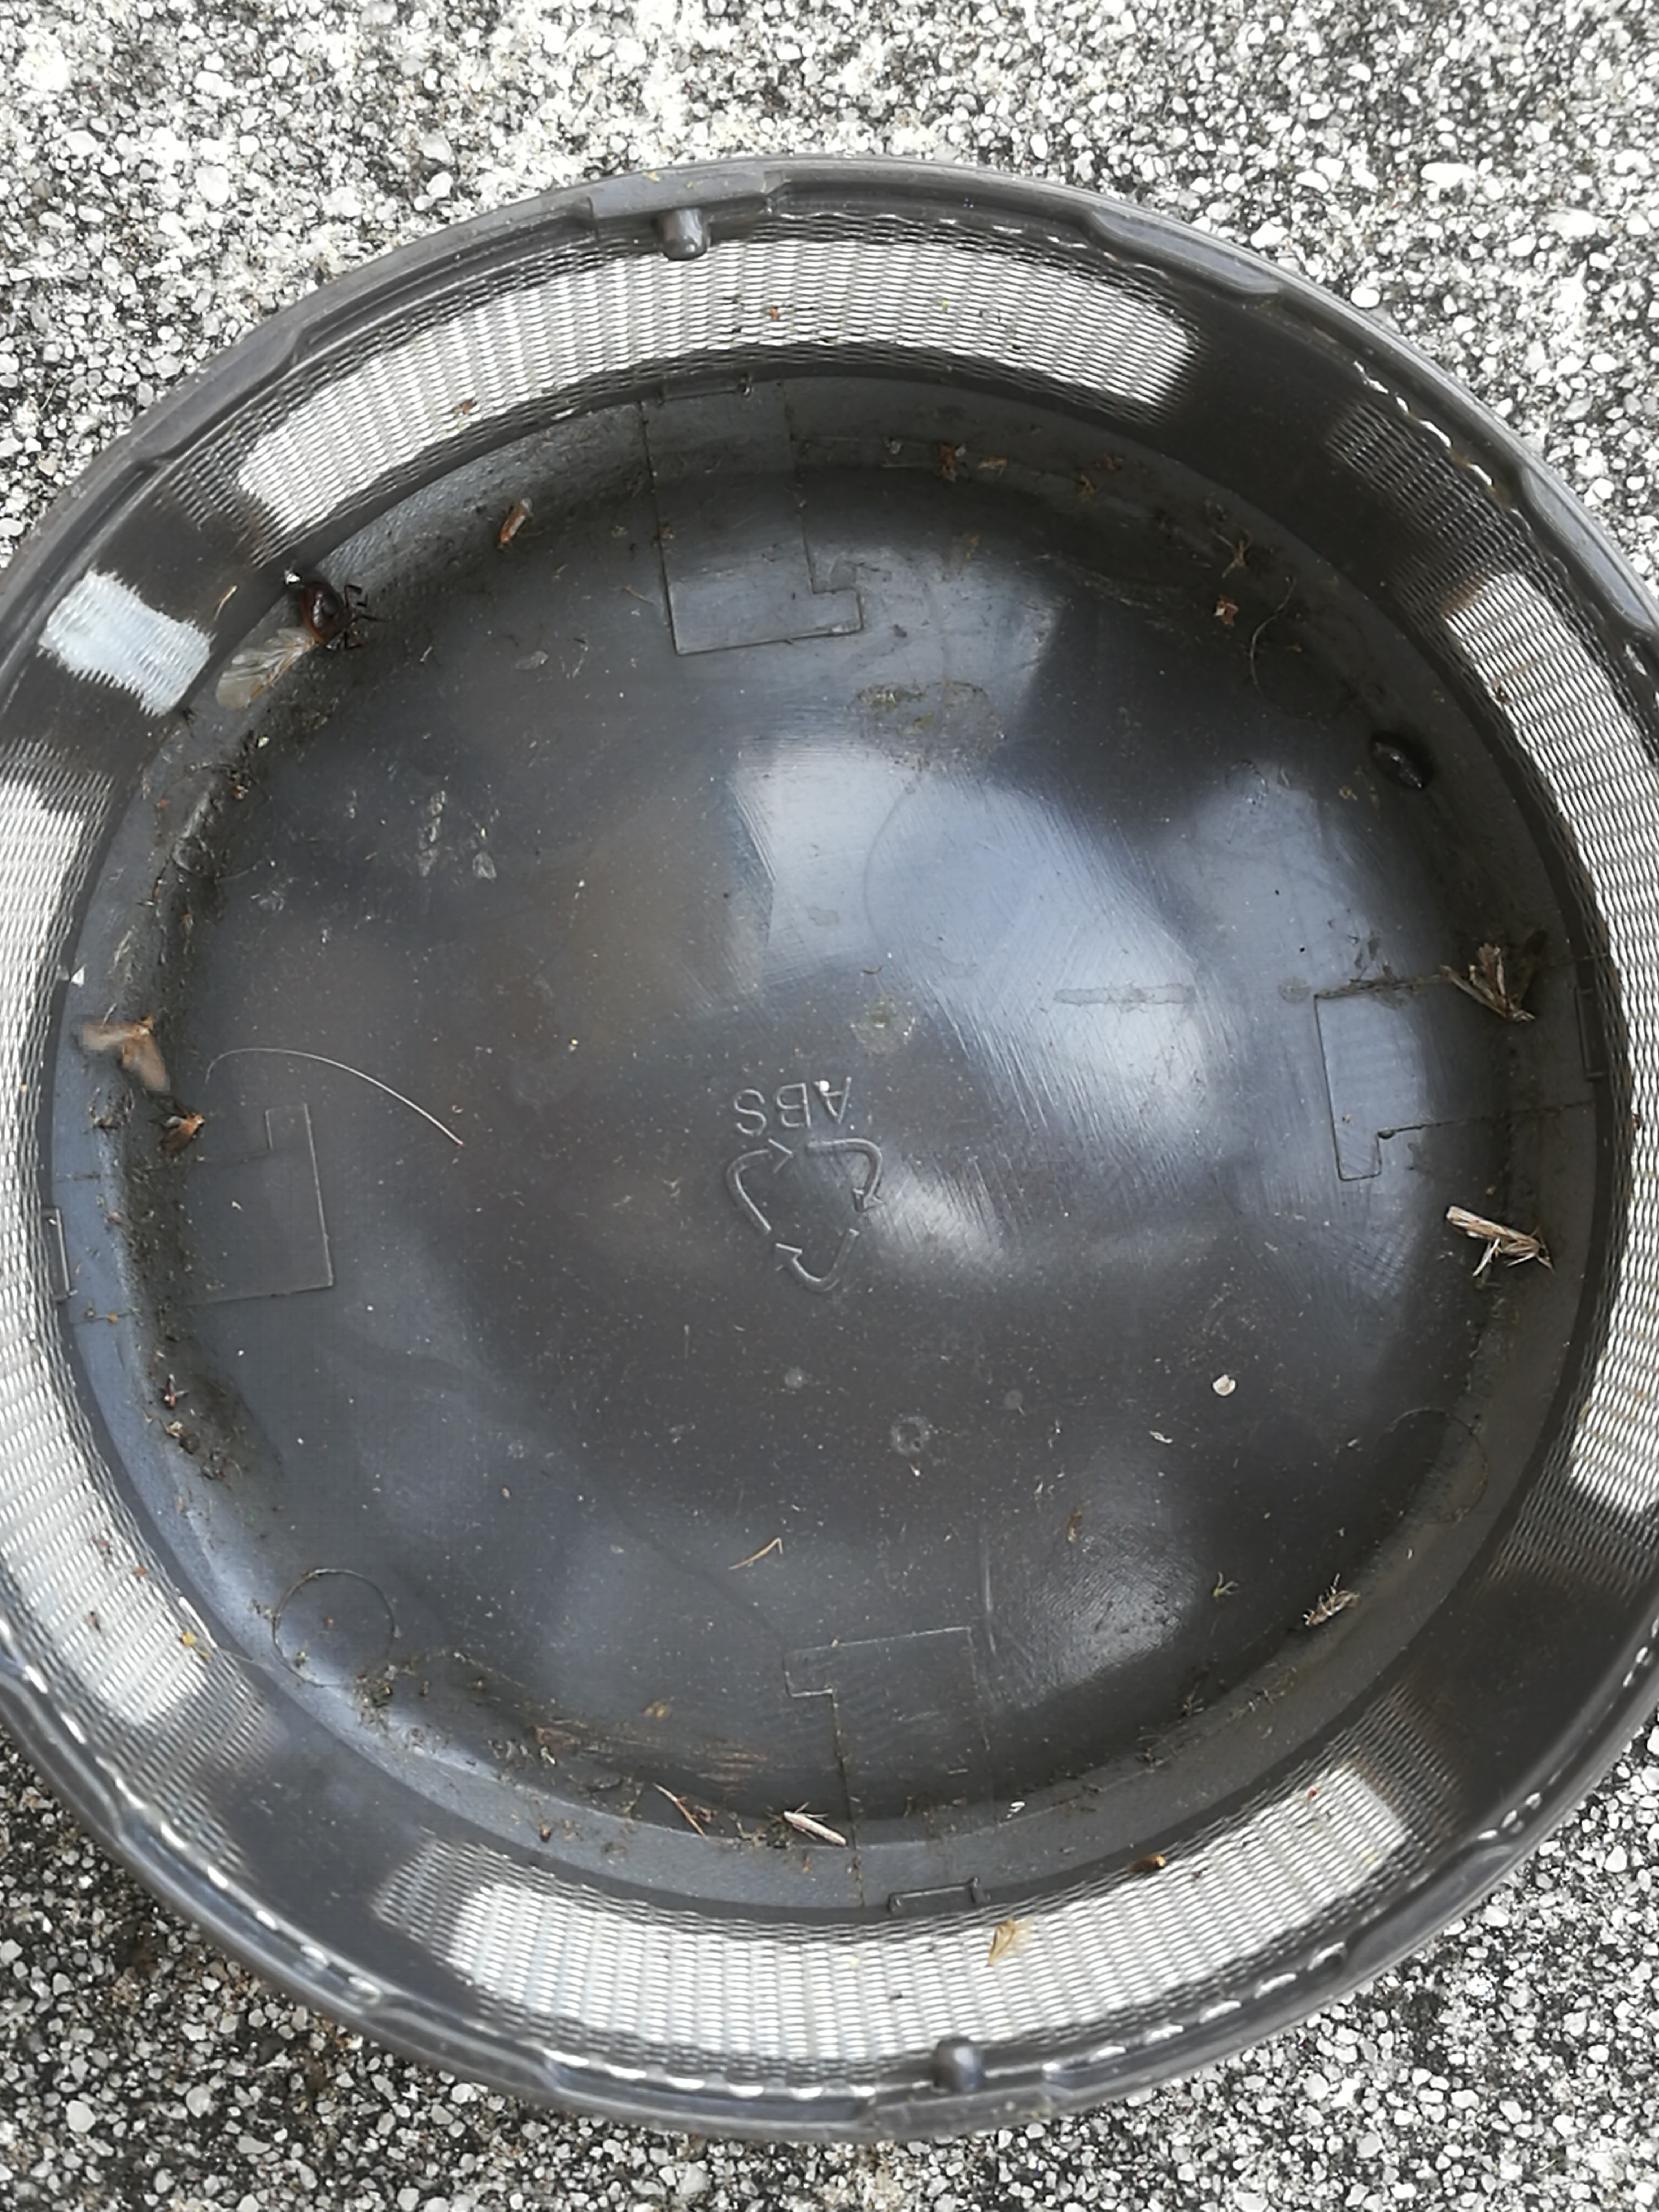beetle: (300, 582, 350, 646)
mosquito: (1445, 1205, 1553, 1268), (1303, 1592, 1351, 1627), (502, 498, 532, 543)
moth: (1439, 932, 1547, 1021), (78, 1017, 167, 1090), (148, 1113, 202, 1155)
